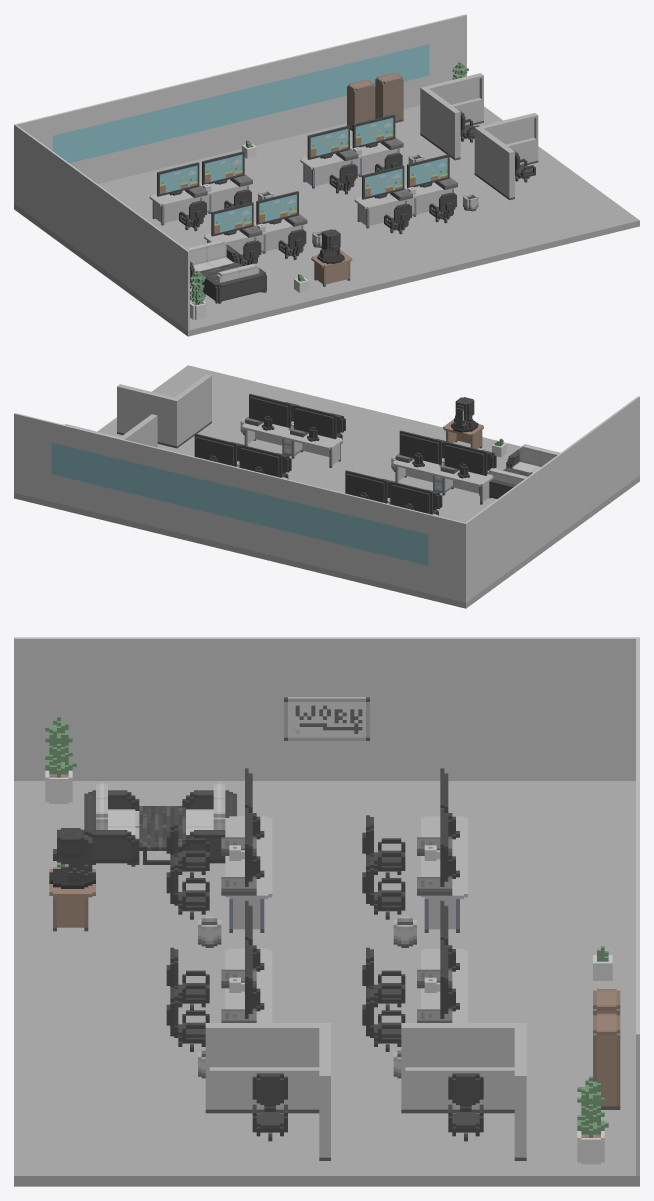
File: Office Room.glb
The picture shows the model from 3 angles, top to bottom: view 1: azimuth 30°, elevation 25°; view 2: azimuth 150°, elevation 25°; view 3: azimuth 270°, elevation 25°; orthographic projection. The views are drawn at different scales.
Bounding box in the file's own units: 24 × 4.3 × 16.
